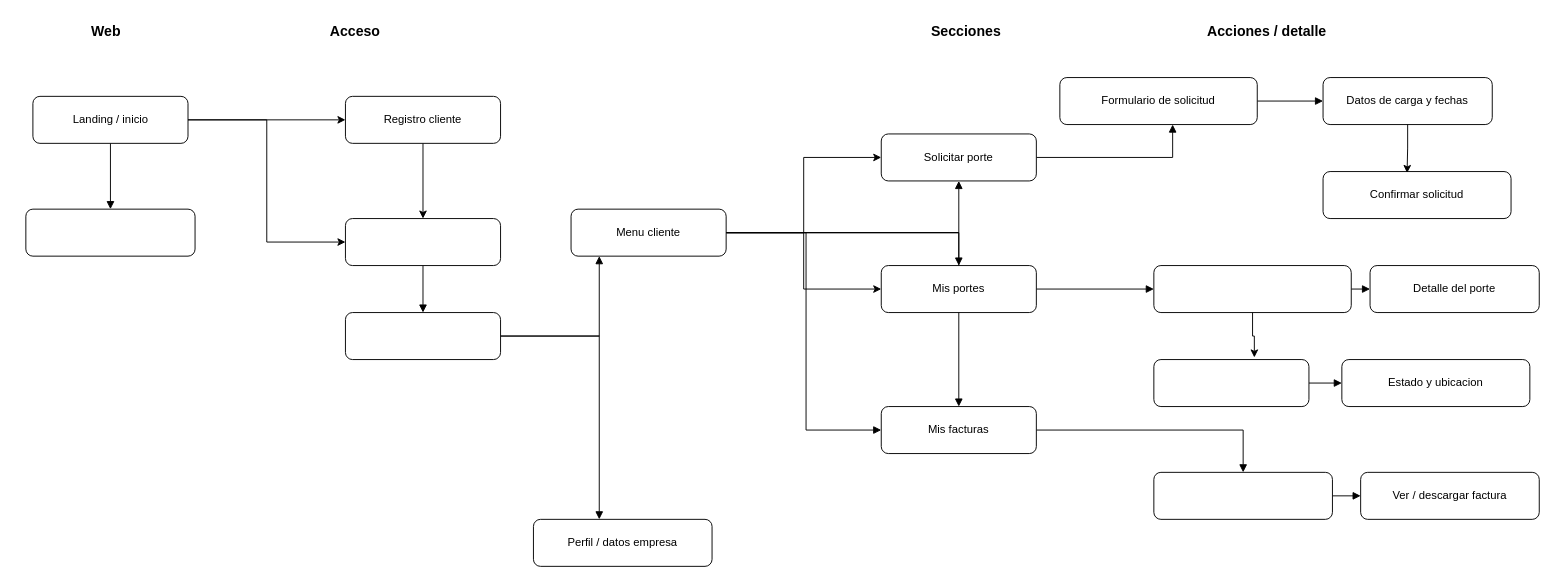
Some shapes in this 1556 by 583 pixel diagram are drawn without their labels. Each missing label, with the centre of its shape:
"Informacion servicio" belongs at (x=110, y=232).
"Listado de portes propios" belongs at (x=1252, y=289).
"Listado facturas" belongs at (x=1242, y=495).
"Login" belongs at (x=423, y=242).
"Panel cliente" belongs at (x=423, y=336).
"Seguimiento" belongs at (x=1231, y=383).
